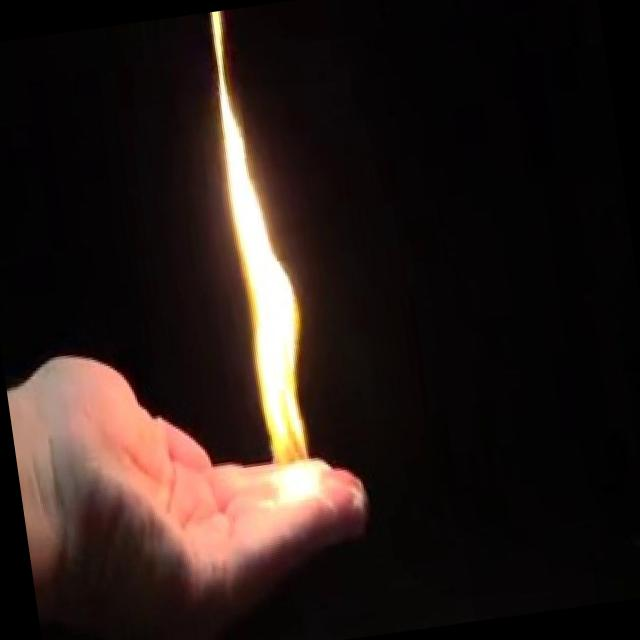Smoke: (185, 5, 333, 515)
